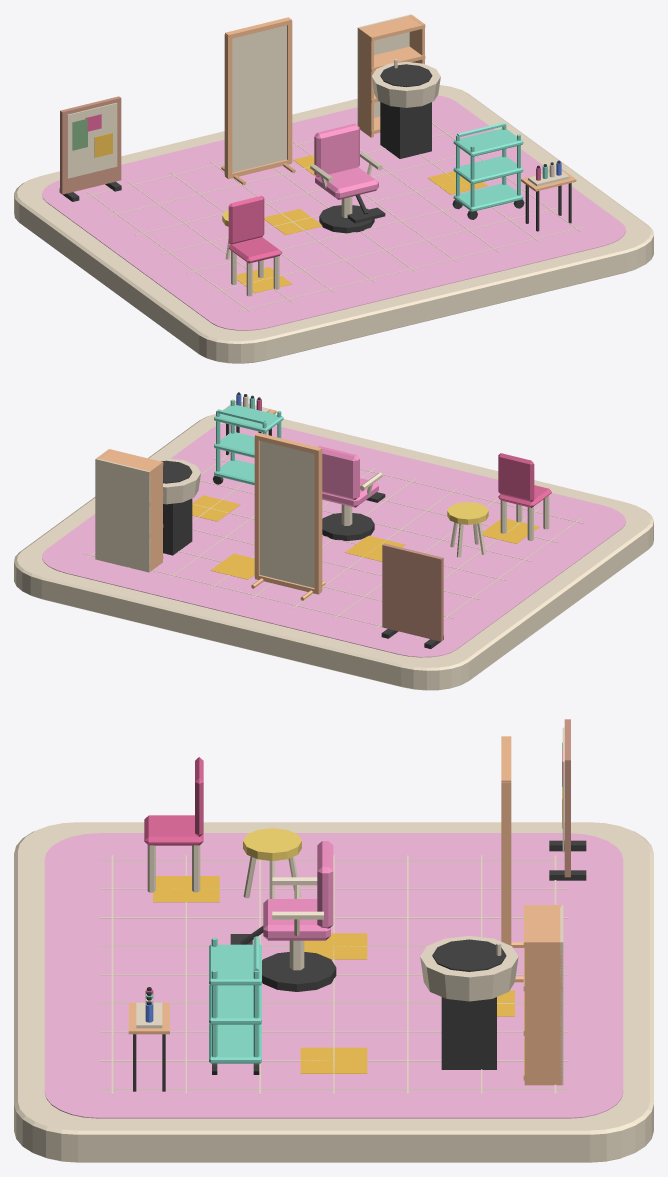
File: room.fbx
3 renders of one model, top to bottom at view 1: azimuth 30°, elevation 25°; view 2: azimuth 150°, elevation 25°; view 3: azimuth 270°, elevation 25°, orthographic. The views are drawn at different scales.
Visible parts, largest first — view 1: COM-02 Floor Surface, COM-01 Rounded Base Direct, Mirror face, Pedestal, Canvas, Panel, Back, Bowl, Backrest, Side, Seat, Frame (+14 smaller); view 2: COM-02 Floor Surface, COM-01 Rounded Base Direct, Mirror face, Back.001, Panel, Back, Backrest, Pedestal, Frame, Side, Base, Tray.002 (+14 smaller); view 3: COM-02 Floor Surface, COM-01 Rounded Base Direct, Side.001, Pedestal, Bowl, Base, Seat, Tray.002, Inset, Geometric color tile.003, Tray.001, Tray (+14 smaller).
Boxes of the visible parts, x1,y1,x2,y2 form: COM-02 Floor Surface: (42, 95, 625, 330); COM-01 Rounded Base Direct: (14, 85, 653, 363); Mirror face: (232, 25, 286, 172); Pedestal: (380, 102, 431, 158); Canvas: (67, 103, 117, 178); Panel: (60, 96, 121, 194); Back: (314, 123, 359, 176); Bowl: (371, 61, 440, 107); Backrest: (228, 195, 264, 244); Side: (358, 27, 373, 137); Seat: (315, 167, 378, 199); Frame: (224, 34, 232, 177); COM-02 Floor Surface: (42, 423, 625, 657); COM-01 Rounded Base Direct: (14, 414, 653, 690); Mirror face: (260, 441, 314, 587); Back.001: (95, 459, 150, 572); Panel: (382, 543, 443, 641); Back: (318, 446, 359, 499); Backrest: (498, 453, 534, 501); Pedestal: (163, 498, 192, 555); Frame: (314, 450, 322, 593); Side: (148, 461, 162, 571); Base: (322, 513, 374, 540); Tray.002: (214, 404, 283, 432); COM-02 Floor Surface: (44, 833, 623, 1118); COM-01 Rounded Base Direct: (14, 822, 653, 1162); Side.001: (524, 940, 561, 1085); Pedestal: (441, 997, 496, 1069); Bowl: (420, 936, 518, 1001); Base: (262, 952, 336, 991); Seat: (263, 899, 330, 940); Tray.002: (209, 944, 261, 985); Inset: (432, 939, 506, 971); Geometric color tile.003: (300, 1047, 367, 1073); Tray.001: (209, 984, 261, 1024); Tray: (209, 1023, 261, 1063).
Bounding box in the file's own units: 600 × 215 × 520.
